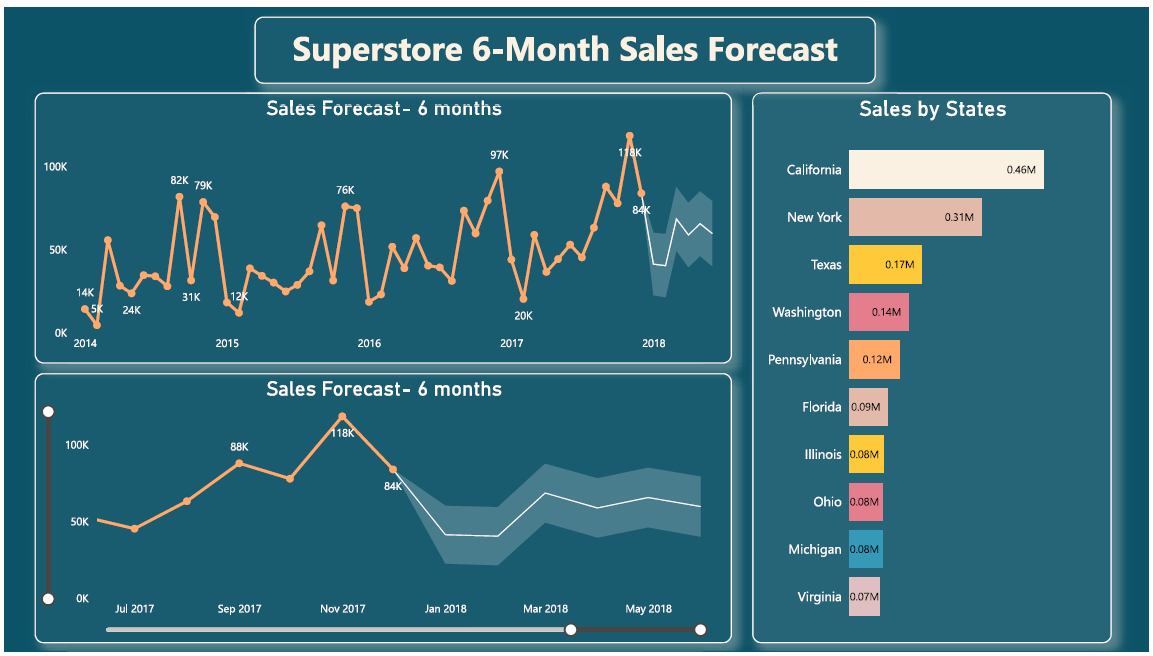

This screenshot's page, from the dashboard's own definition file:
{"tool":"powerbi","page":{"name":"Sales Forecast","canvas":[1280,720],"ordinal":1},"visuals":[{"type":"lineChart","title":"Sales Forecast- 6 months","fields":{"Y":["Sum(Superstore Sales.Sales)"],"Category":["Superstore Sales.Order Date.Variation.Date Hierarchy.Year","Superstore Sales.Order Date.Variation.Date Hierarchy.Month"]},"box":[33.8,95.3,780.6,302.8],"z":0},{"type":"lineChart","title":"Sales Forecast- 6 months","fields":{"Y":["Sum(Superstore Sales.Sales)"],"Category":["Superstore Sales.Order Date.Variation.Date Hierarchy.Year","Superstore Sales.Order Date.Variation.Date Hierarchy.Month"]},"box":[33.8,409,780.6,301.6],"z":1000},{"type":"barChart","title":"Sales by States","fields":{"Category":["Superstore Sales.State"],"Y":["Sum(Superstore Sales.Sales)"],"Series":["Superstore Sales.State"]},"box":[837.3,95.3,401.7,615.3],"z":2000},{"type":"textbox","box":[279.9,10.1,695.4,75],"z":3000}]}

Visuals, with their boxes in screenshot pixels (x1, y1, x2, y2), scaled from the page's 1280x720 canvas onto the 1153x656 screenshot:
"Sales Forecast- 6 months" lineChart: l=30, t=87, r=734, b=363
"Sales Forecast- 6 months" lineChart: l=30, t=373, r=734, b=647
"Sales by States" barChart: l=754, t=87, r=1116, b=647
textbox: l=252, t=9, r=879, b=78
